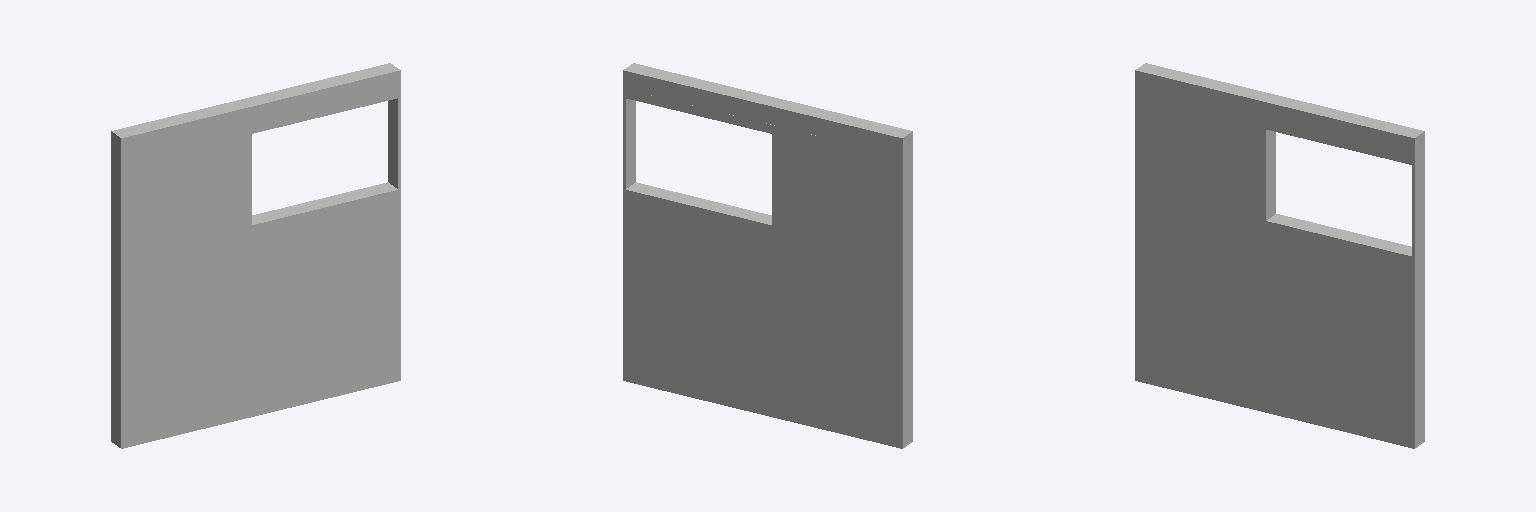
The model's file is df4d_right_board_b.obj.
3 views of the same model, side by side, from view 1: azimuth 30°, elevation 25°; view 2: azimuth 150°, elevation 25°; view 3: azimuth 330°, elevation 25° (orthographic).
Parts seen in each view (by area): view 1: df4d_right_broad_b; view 2: df4d_right_broad_b; view 3: df4d_right_broad_b.
Boxes of the visible parts, <box> form: df4d_right_broad_b: <box>111,63,400,448</box>; df4d_right_broad_b: <box>623,63,912,448</box>; df4d_right_broad_b: <box>1135,63,1424,448</box>.
Bounding box in the file's own units: 2 × 2.12 × 0.1258.